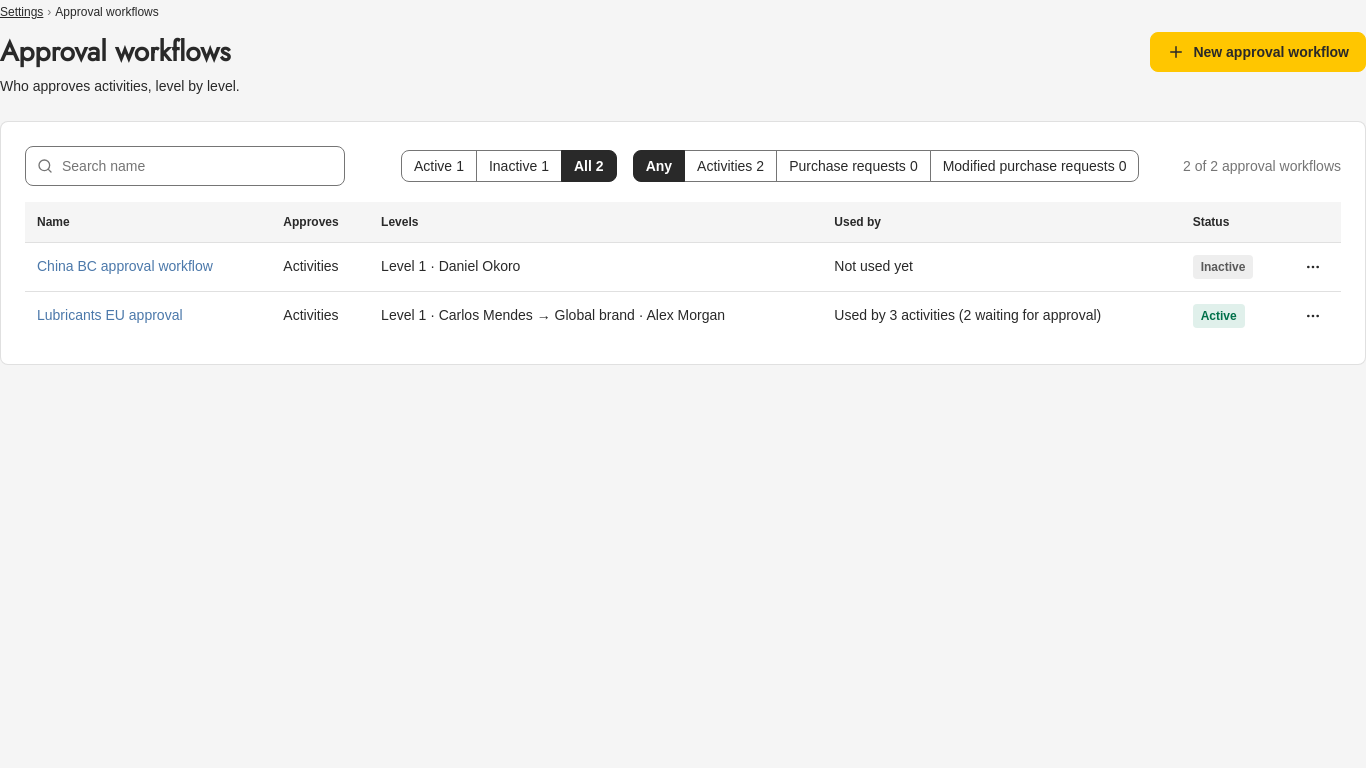
Test: ApprovalWorkflowsPage set inactive, reactivate and delete (feature 008, US4) › deletes an unused workflow with Undo (FR-008)
Click the button "All 2": (589, 166) [561, 150, 617, 182]
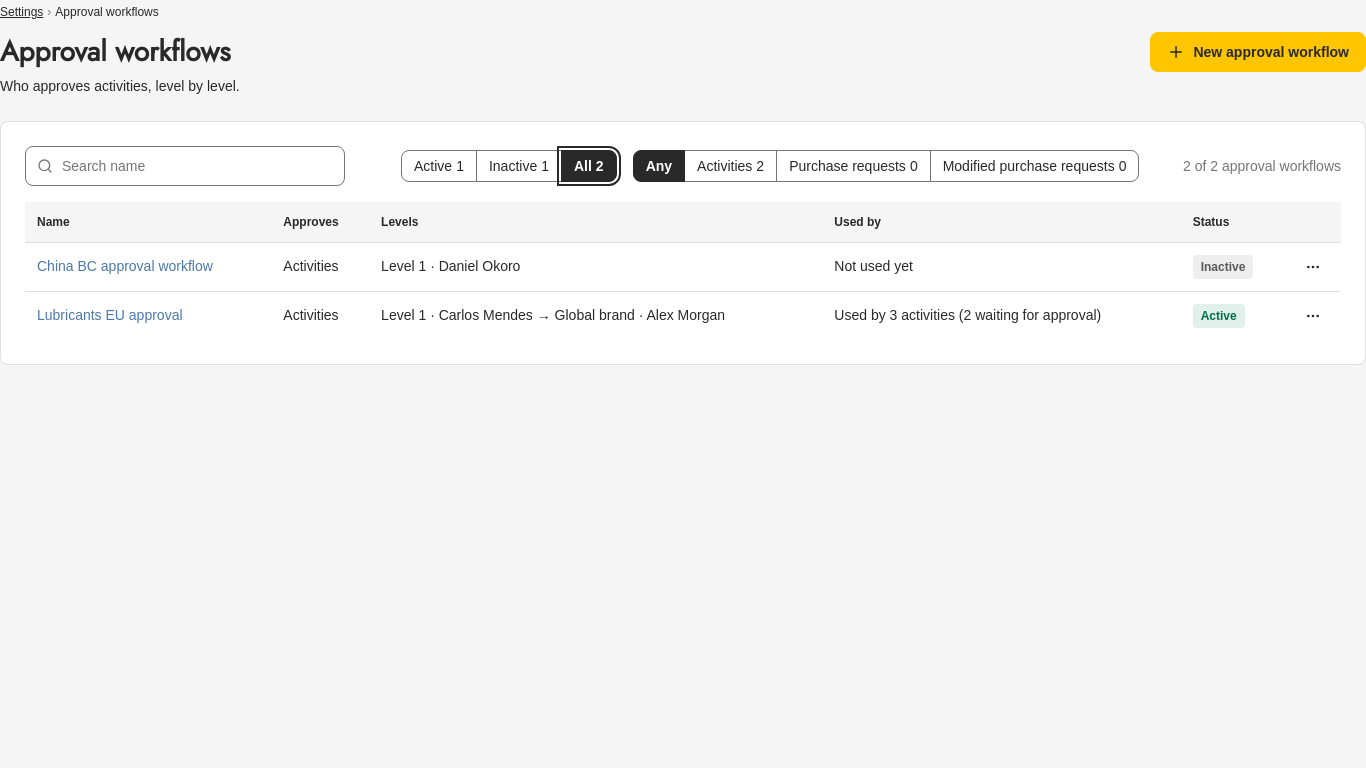
Expected: the row "China BC" is shown, [25, 242, 1341, 291]
Click the button named "Actions for China BC approval workflow": (1313, 266) [1297, 250, 1329, 282]
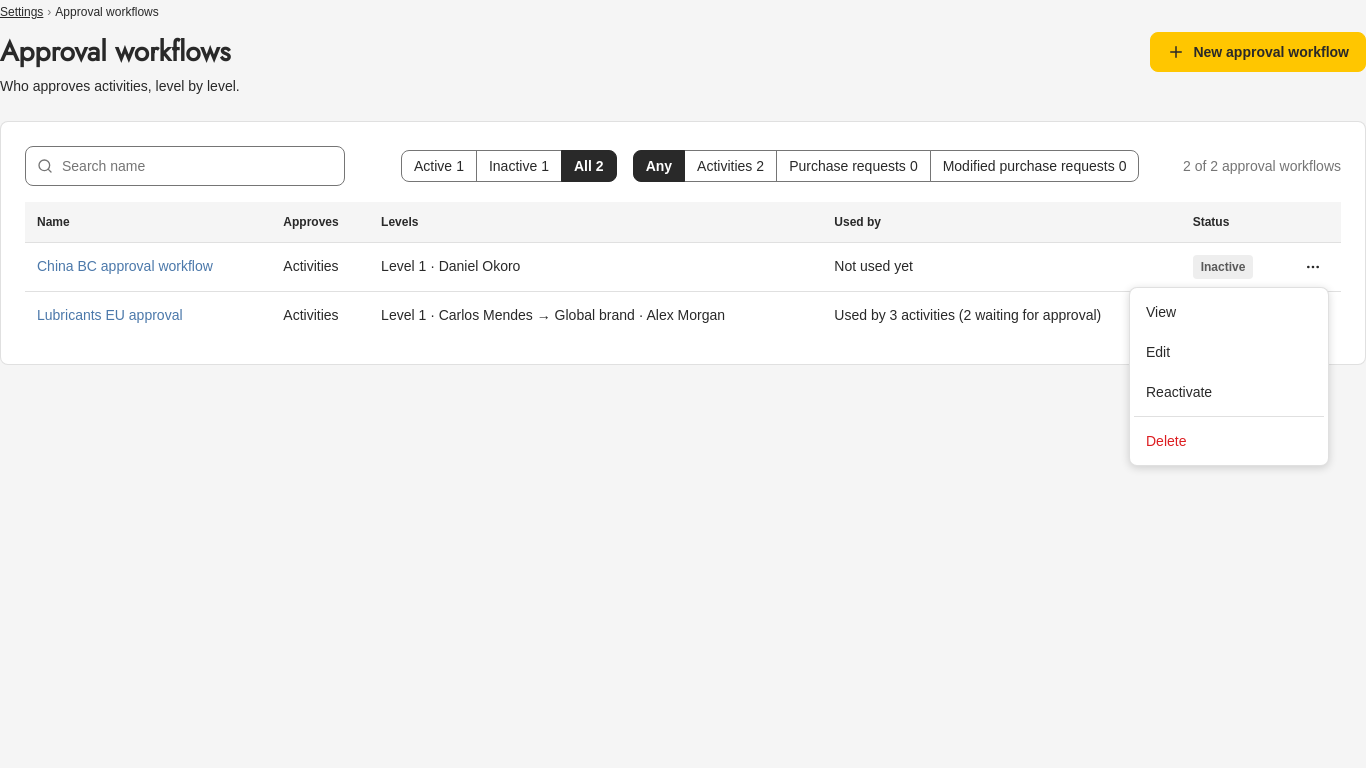
Click the menu item "Delete": (1166, 441) [1146, 433, 1186, 449]
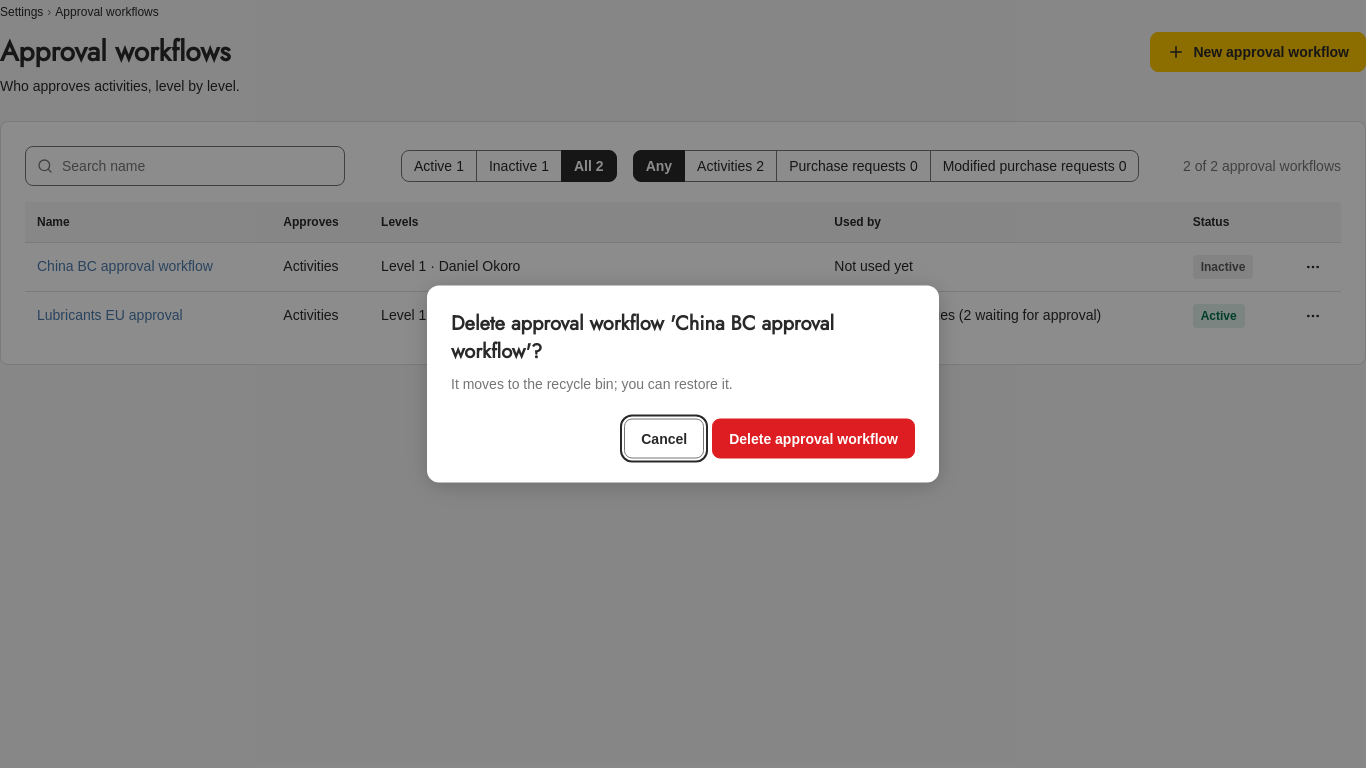
Now the dialog "Delete approval workflow 'China BC approval workflow'?" shows "It moves to the recycle bin; you can restore it.", box [451, 376, 733, 392]
Click the button "Delete approval workflow": (814, 438) [712, 418, 915, 458]
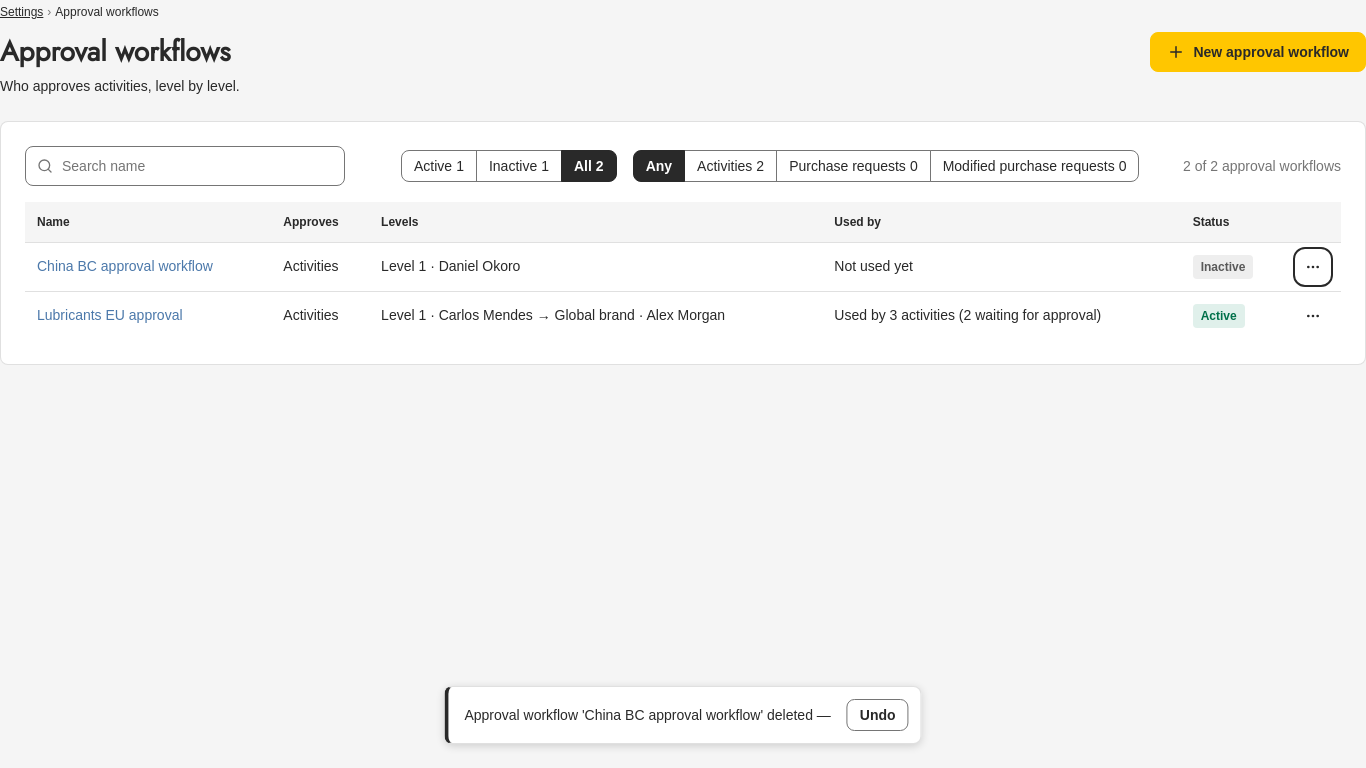
Now the text "Approval workflow 'China BC approval workflow' deleted" is shown, box [464, 706, 817, 722]
Click the button "Undo": (878, 715) [847, 699, 909, 731]
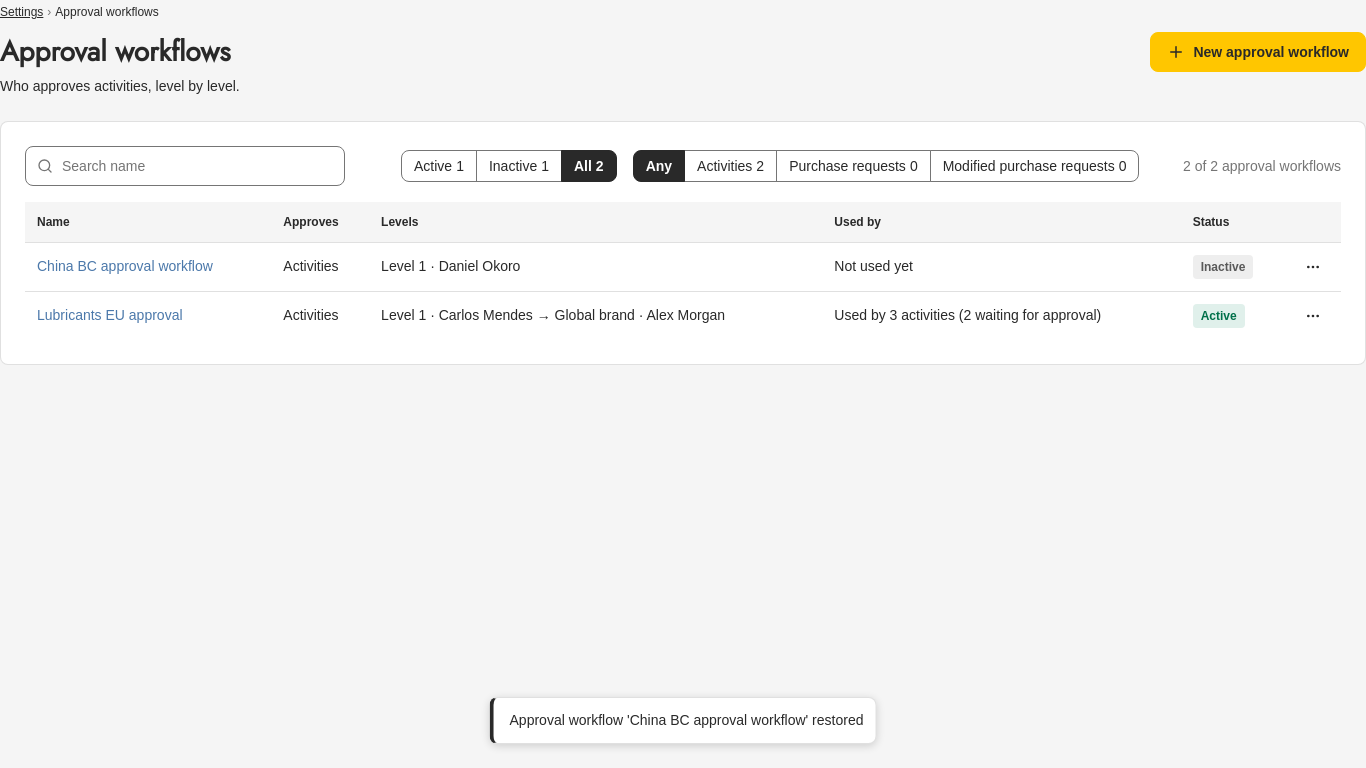
Now the text "Approval workflow 'China BC approval workflow' restored" is shown, box [510, 710, 863, 731]
